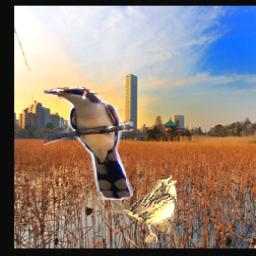Cuckoo: (44, 88, 133, 201)
Sparrow: (108, 174, 178, 243)
